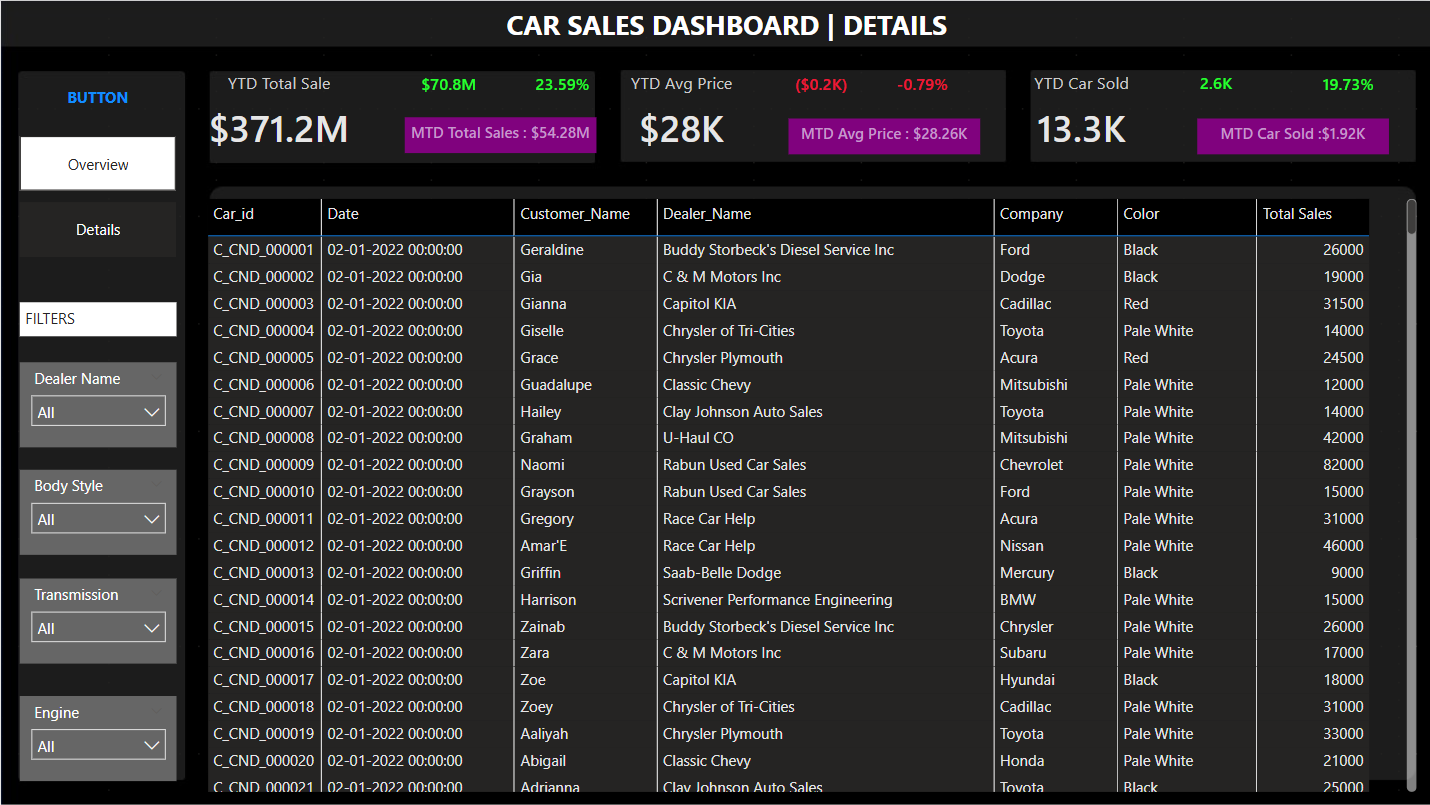

The page's visual inventory and layout, read from the dashboard file:
{"tool":"powerbi","page":{"name":"Details","canvas":[1280,720],"ordinal":1},"visuals":[{"type":"card","title":"YTD Total Sale","fields":{"Values":["Measure_Table.Total YTD"]},"box":[157.5,62.8,182.2,82.5],"z":0},{"type":"card","fields":{"Values":["Measure_Table.Sales Difference"]},"box":[349.2,62.6,101.6,27.8],"z":1000},{"type":"card","fields":{"Values":["Measure_Table.YOY Sales Growth"]},"box":[450.8,62.6,101.6,27.8],"z":2000},{"type":"card","fields":{"Values":["Measure_Table.MTD KPI"]},"box":[360.3,104.3,171.1,32],"z":3000},{"type":"card","title":"YTD Avg Price","fields":{"Values":["Measure_Table.YTD Average"]},"box":[516.9,62.8,182.2,82.5],"z":4000},{"type":"card","fields":{"Values":["Measure_Table.Average Price Difference"]},"box":[681.8,62.8,100.9,28.3],"z":5000},{"type":"card","fields":{"Values":["Measure_Table.YOY Avg Price Growth"]},"box":[772.9,62.8,100.9,28.3],"z":6000},{"type":"card","fields":{"Values":["Measure_Table.MTD Avg Price KPI"]},"box":[702.8,104.6,171.1,32],"z":7000},{"type":"card","title":"YTD Car Sold","fields":{"Values":["Measure_Table.YTD Car Sold"]},"box":[873.8,62.8,182.2,82.5],"z":8000},{"type":"card","fields":{"Values":["Measure_Table.Car Sold Difference"]},"box":[1035.1,61.5,100.9,28.3],"z":9000},{"type":"card","fields":{"Values":["Measure_Table.YOY Car Sold Growth"]},"box":[1153.2,62.8,100.9,28.3],"z":10000},{"type":"card","fields":{"Values":["Measure_Table.MTD Car Sold KPI"]},"box":[1068.3,104.6,171.1,32],"z":11000},{"type":"textbox","box":[446.8,0,451.7,51.7],"z":12000},{"type":"slicer","fields":{"Values":["CAR.Body_Style"]},"box":[17.2,418.5,140.3,76.3],"z":13000},{"type":"slicer","fields":{"Values":["CAR.Dealer_Name"]},"box":[17.2,322.5,140.3,76.3],"z":14000},{"type":"slicer","fields":{"Values":["CAR.Transmission"]},"box":[17.2,515.7,140.3,76.3],"z":15000},{"type":"slicer","fields":{"Values":["CAR.Engine"]},"box":[17.2,620.3,140.3,76.3],"z":16000},{"type":"textbox","box":[17.2,269.5,140.3,30.8],"z":17000},{"type":"tableEx","fields":{"Values":["CAR.Car_id","Calender Table.Date","CAR.Customer_Name","CAR.Dealer_Name","CAR.Company","CAR.Color","Measure_Table.Total Sales"]},"box":[178.5,172.3,1090.5,539.1],"z":18000},{"type":"pageNavigator","box":[17.2,120.6,140.3,108.3],"z":18001}]}

Visuals, with their boxes in screenshot pixels (x1, y1, x2, y2), scaled from the page's 1280x720 canvas onto the 1430x805 screenshot:
"YTD Total Sale" card: (x1=176, y1=70, x2=380, y2=162)
card - Measure_Table.Sales Difference: (x1=390, y1=70, x2=504, y2=101)
card - Measure_Table.YOY Sales Growth: (x1=504, y1=70, x2=617, y2=101)
card - Measure_Table.MTD KPI: (x1=403, y1=117, x2=594, y2=152)
"YTD Avg Price" card: (x1=577, y1=70, x2=781, y2=162)
card - Measure_Table.Average Price Difference: (x1=762, y1=70, x2=874, y2=102)
card - Measure_Table.YOY Avg Price Growth: (x1=863, y1=70, x2=976, y2=102)
card - Measure_Table.MTD Avg Price KPI: (x1=785, y1=117, x2=976, y2=153)
"YTD Car Sold" card: (x1=976, y1=70, x2=1180, y2=162)
card - Measure_Table.Car Sold Difference: (x1=1156, y1=69, x2=1269, y2=100)
card - Measure_Table.YOY Car Sold Growth: (x1=1288, y1=70, x2=1401, y2=102)
card - Measure_Table.MTD Car Sold KPI: (x1=1193, y1=117, x2=1385, y2=153)
textbox: (x1=499, y1=0, x2=1004, y2=58)
slicer - CAR.Body_Style: (x1=19, y1=468, x2=176, y2=553)
slicer - CAR.Dealer_Name: (x1=19, y1=361, x2=176, y2=446)
slicer - CAR.Transmission: (x1=19, y1=577, x2=176, y2=662)
slicer - CAR.Engine: (x1=19, y1=694, x2=176, y2=779)
textbox: (x1=19, y1=301, x2=176, y2=336)
tableEx - CAR.Car_id x Calender Table.Date: (x1=199, y1=193, x2=1418, y2=795)
pageNavigator: (x1=19, y1=135, x2=176, y2=256)
